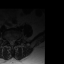CCS_normal: (10, 37, 13, 47)
LFS_normal: (14, 36, 17, 42)
LLS_normal: (12, 37, 14, 45)
RFS_normal: (6, 36, 8, 42)
RLS_normal: (8, 37, 10, 46)
